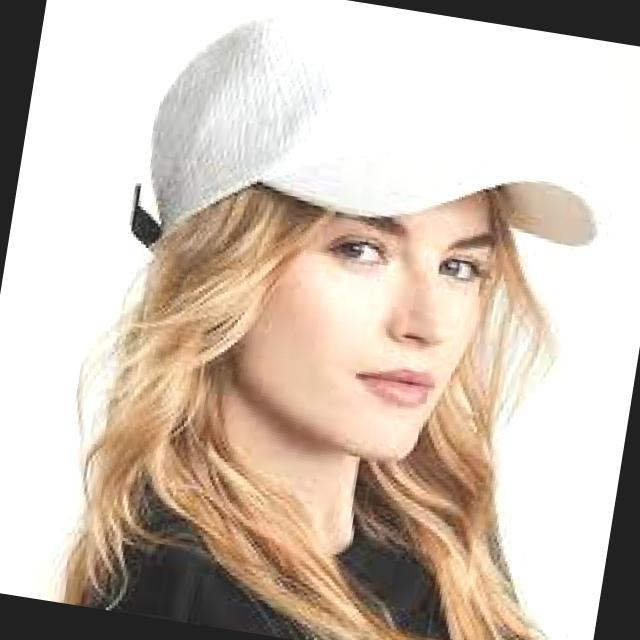cap: (111, 0, 640, 322)
